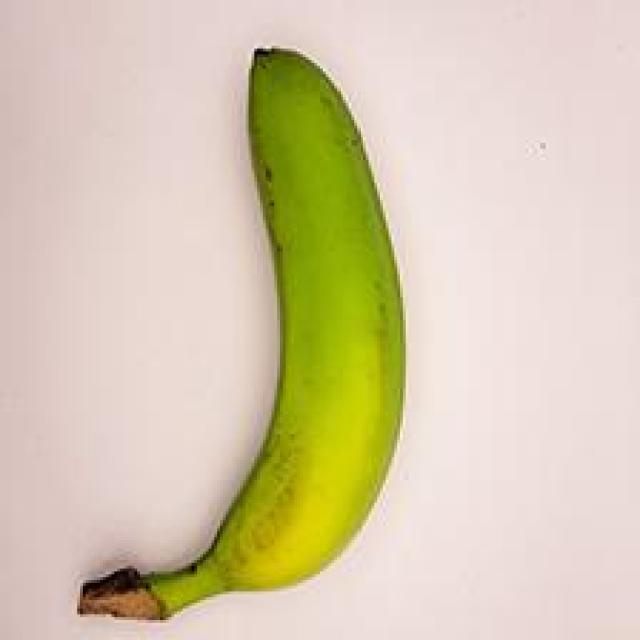Unripe: (61, 31, 431, 639)
